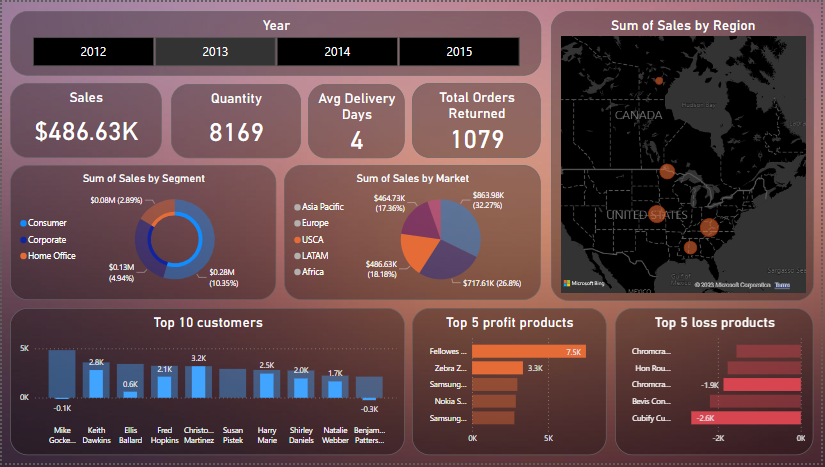

This screenshot's page, from the dashboard's own definition file:
{"tool":"powerbi","page":{"name":"Page 1","canvas":[1280,720],"ordinal":0},"visuals":[{"type":"card","title":"Sales","fields":{"Values":["Sum(Orders.Sales)"]},"box":[11.7,125.8,236.5,117.4],"z":0},{"type":"card","title":"Quantity","fields":{"Values":["Sum(Orders.Quantity)"]},"box":[263.4,127.5,203,115.8],"z":1000},{"type":"card","title":"Avg Delivery Days","fields":{"Values":["Avg(Orders.Delivery Days)"]},"box":[478.1,127.5,151,115.8],"z":2000},{"type":"slicer","title":"Year","fields":{"Values":["Orders.Year"]},"box":[11.7,13.4,830.4,100.7],"z":3000},{"type":"card","title":"Total Orders Returned","fields":{"Values":["Sum(Returns.Return Orders)"]},"box":[640.8,125.8,201.3,117.4],"z":4000},{"type":"map","fields":{"Size":["Sum(Orders.Sales)"],"Category":["Orders.Region"]},"box":[857.2,13.4,411,452.9],"z":5000},{"type":"barChart","title":"Top 5 profit products","fields":{"Y":["Sum(Orders.Profit)"],"Category":["Orders.Product Name"]},"box":[640.8,478.1,303.6,229.8],"z":6000},{"type":"barChart","title":"Top 5 loss products","fields":{"Y":["Sum(Orders.Profit)"],"Category":["Orders.Product Name"]},"box":[957.9,478.1,310.4,229.8],"z":7000},{"type":"pieChart","fields":{"Y":["Sum(Orders.Sales)"],"Category":["Orders.Market"]},"box":[441.2,255,400.9,211.4],"z":8000},{"type":"donutChart","fields":{"Category":["Orders.Segment"],"Y":["Sum(Orders.Sales)"]},"box":[11.7,255,416,211.4],"z":9000},{"type":"columnChart","title":"Top 10 customers","fields":{"Y":["Sum(Orders.Profit)"],"Category":["Orders.Customer Name"]},"box":[11.7,478.1,617.4,229.8],"z":10000}]}

Visuals, with their boxes in screenshot pixels (x1, y1, x2, y2), scaled from the page's 1280x720 canvas onto the 825x467 screenshot:
"Sales" card: 8, 82, 160, 158
"Quantity" card: 170, 83, 301, 158
"Avg Delivery Days" card: 308, 83, 405, 158
"Year" slicer: 8, 9, 543, 74
"Total Orders Returned" card: 413, 82, 543, 158
map - Sum(Orders.Sales) x Orders.Region: 552, 9, 817, 302
"Top 5 profit products" barChart: 413, 310, 609, 459
"Top 5 loss products" barChart: 617, 310, 817, 459
pieChart - Sum(Orders.Sales) x Orders.Market: 284, 165, 543, 303
donutChart - Orders.Segment x Sum(Orders.Sales): 8, 165, 276, 303
"Top 10 customers" columnChart: 8, 310, 405, 459
